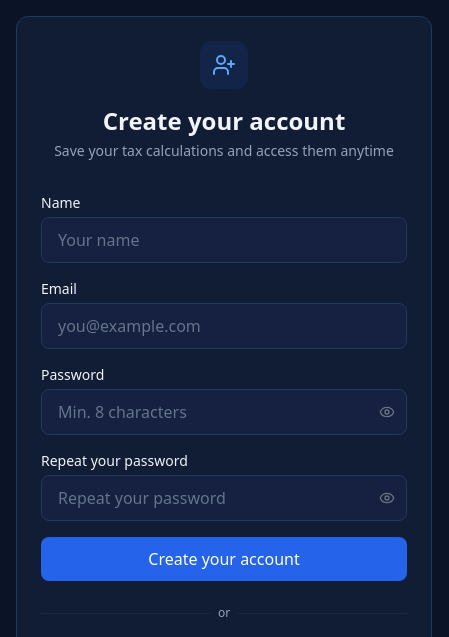
Test: SignupPage - client-side validation › rejects a confirm-password value that does not match
Step 1. Type "maria@example.com" into the field labelled "Email" → (224, 326), box [41, 303, 407, 349]
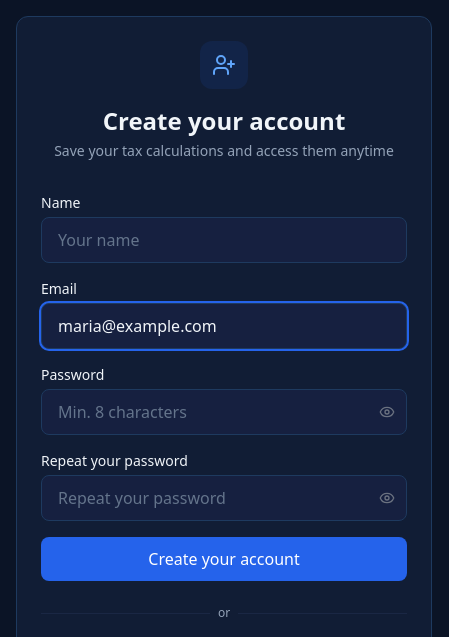
Step 2. Type "TestPass2026!" into the password field labelled "Password" → (224, 412), box [41, 389, 407, 435]
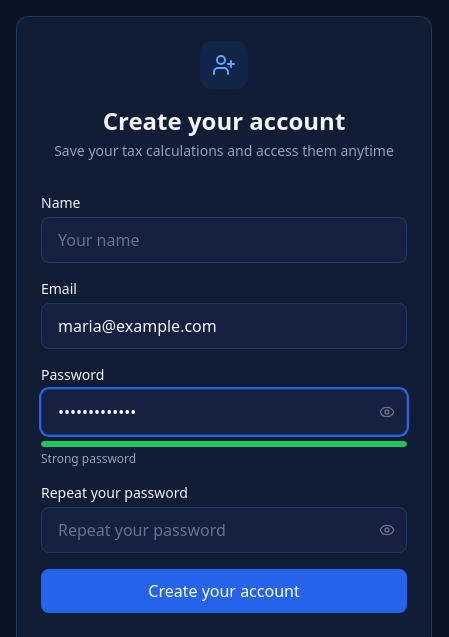
Step 3. Type "DifferentPass1!" into the password field labelled "Repeat your password" → (224, 530), box [41, 507, 407, 553]
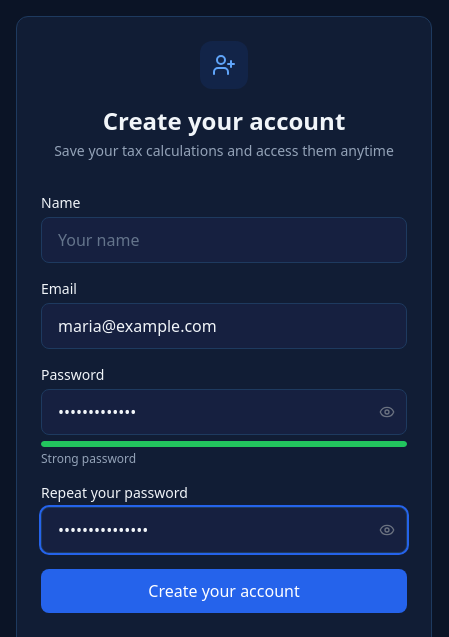
Step 4. Click the button "Create your account" → (224, 591), box [41, 569, 407, 613]
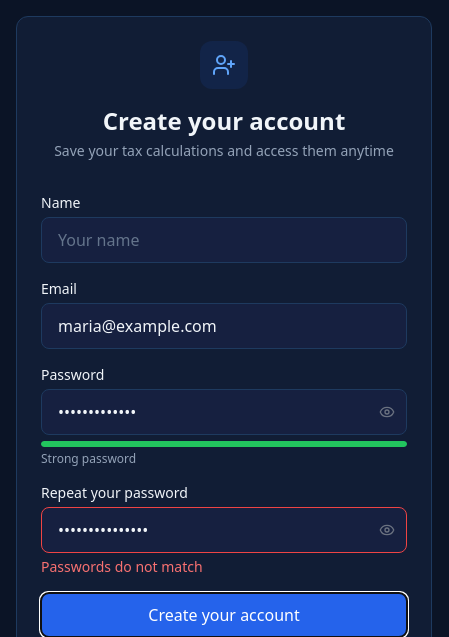
Now the text "Passwords do not match" is shown, box [41, 557, 203, 576]
